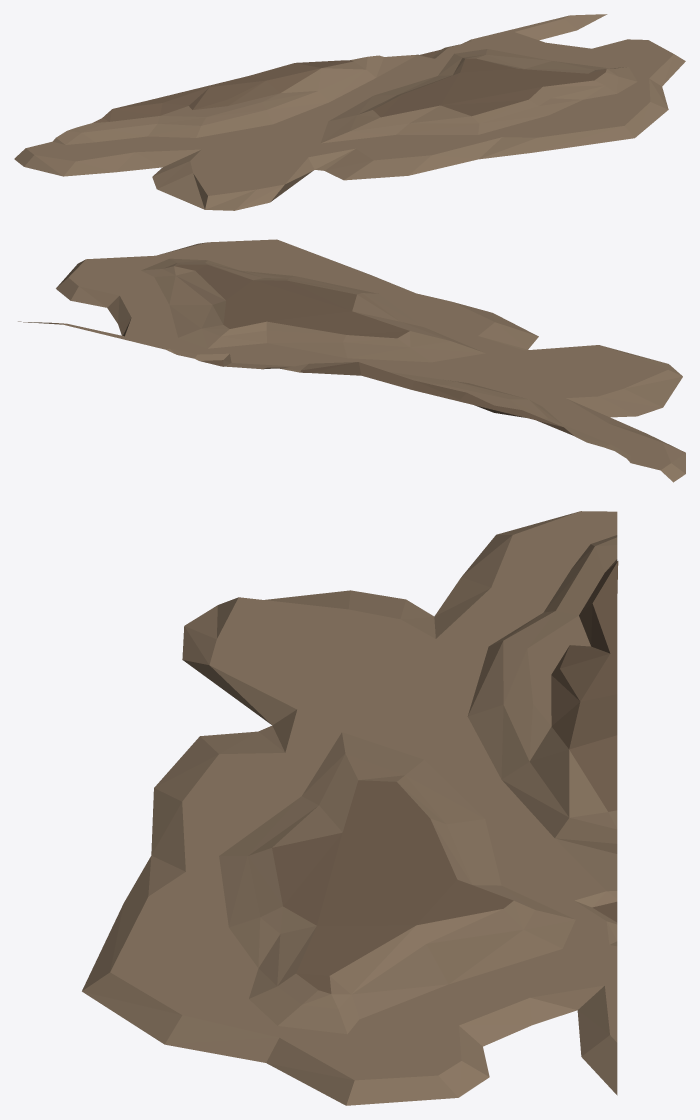
The model's file is EA03_Env_Mud_Flat_01c_Half.glb.
3 renders of one model, top to bottom at view 1: azimuth 30°, elevation 25°; view 2: azimuth 150°, elevation 25°; view 3: azimuth 270°, elevation 25°, orthographic. The views are drawn at different scales.
Parts seen in each view (by area): view 1: EA03_Env_Mud_Flat_01c_Half; view 2: EA03_Env_Mud_Flat_01c_Half; view 3: EA03_Env_Mud_Flat_01c_Half.
Boxes of the visible parts, bbox=[...] form: EA03_Env_Mud_Flat_01c_Half: bbox=[14, 14, 685, 210]; EA03_Env_Mud_Flat_01c_Half: bbox=[18, 239, 685, 482]; EA03_Env_Mud_Flat_01c_Half: bbox=[82, 511, 618, 1105].
Bounding box in the file's own units: 8.09 × 0.3526 × 3.11.
1 material, 1 textured.
